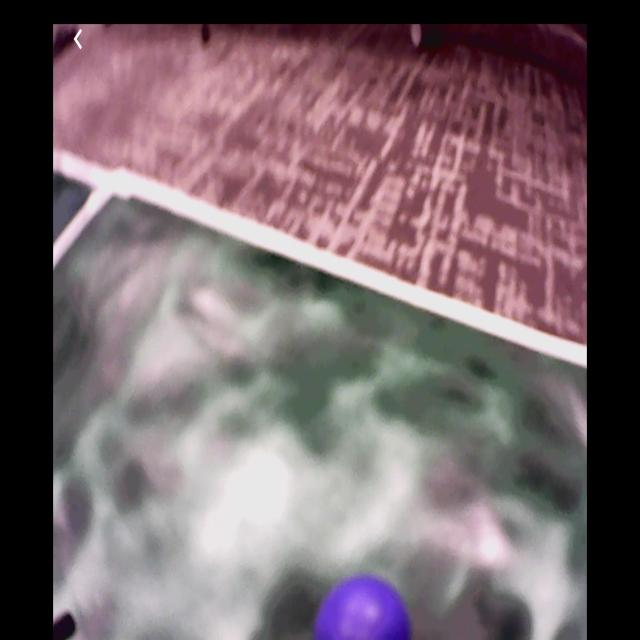ball: (315, 576, 413, 640)
